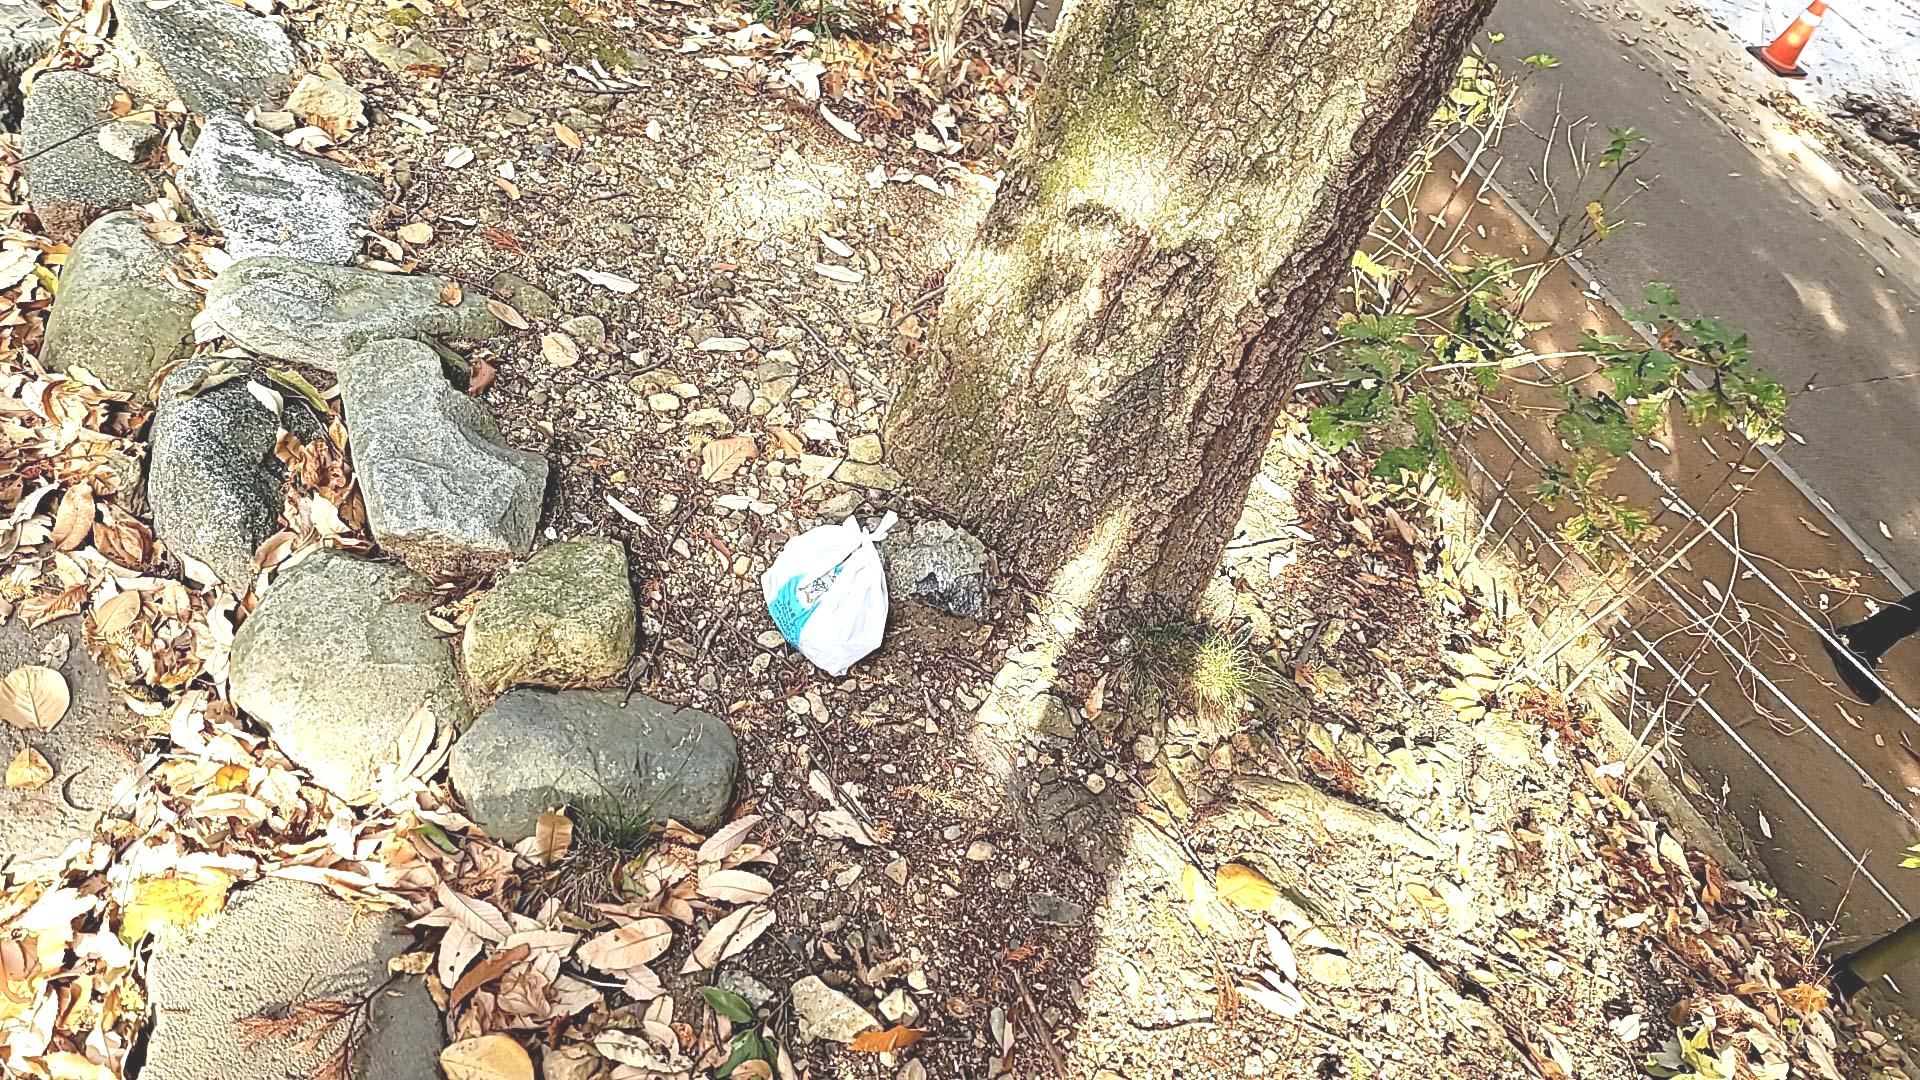white_bag: (740, 501, 907, 679)
